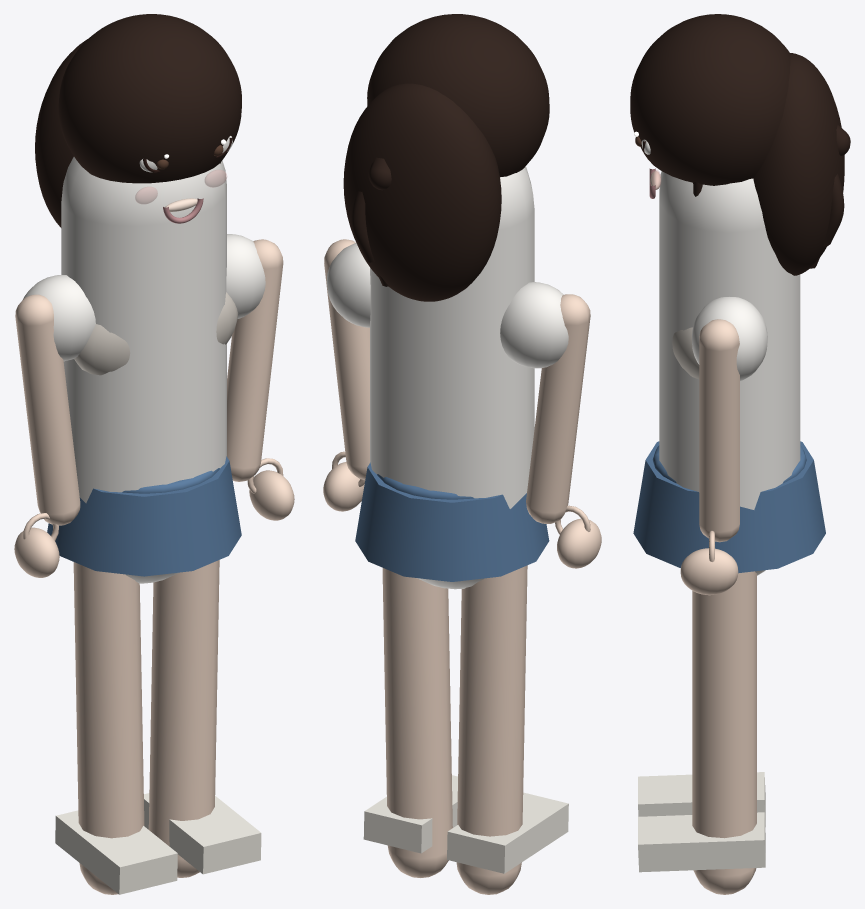
Rendered from junior_2005_runtime_mobile.glb.
The picture shows the model from 3 angles, left to right: view 1: azimuth 30°, elevation 25°; view 2: azimuth 150°, elevation 25°; view 3: azimuth 270°, elevation 25°; orthographic projection.
Parts seen in each view (by area): view 1: torso_main, leg_l (×2), hair_cap, arm_l (×2), shorts_hip, shoe_l (×2), shirt_sleeve_l (×2), hair_back, hand_l (×2), torso_chest, shorts_waistband; view 2: leg_l (×2), torso_main, hair_back, hair_cap, shorts_hip, arm_l (×2), shoe_l (×2), shirt_sleeve_l (×2), hand_l (×2), hair_pony_strand_1, shorts_waistband, hair_pony_base; view 3: torso_main, hair_cap, leg_l, hair_back, shorts_hip, arm_l, shoe_l (×2), shirt_sleeve_l, hand_l, torso_chest, hair_pony_strand_1, shorts_waistband.
Boxes of the visible parts, bbox=[...] form: torso_main: bbox=[61, 157, 226, 583]; leg_l (×2): bbox=[73, 560, 219, 894]; hair_cap: bbox=[58, 14, 241, 183]; arm_l (×2): bbox=[15, 239, 283, 525]; shorts_hip: bbox=[47, 456, 241, 576]; shoe_l (×2): bbox=[55, 793, 261, 894]; shirt_sleeve_l (×2): bbox=[23, 234, 265, 361]; hair_back: bbox=[35, 39, 87, 227]; hand_l (×2): bbox=[14, 470, 294, 577]; torso_chest: bbox=[74, 292, 238, 375]; shorts_waistband: bbox=[122, 468, 219, 493]; leg_l (×2): bbox=[382, 565, 527, 894]; torso_main: bbox=[370, 166, 534, 589]; hair_back: bbox=[343, 83, 501, 301]; hair_cap: bbox=[367, 14, 549, 177]; shorts_hip: bbox=[355, 462, 549, 581]; arm_l (×2): bbox=[324, 239, 590, 523]; shoe_l (×2): bbox=[363, 775, 568, 873]; shirt_sleeve_l (×2): bbox=[326, 243, 568, 368]; hand_l (×2): bbox=[323, 462, 601, 568]; hair_pony_strand_1: bbox=[351, 191, 374, 262]; shorts_waistband: bbox=[377, 474, 473, 499]; hair_pony_base: bbox=[368, 157, 391, 190]; torso_main: bbox=[659, 171, 800, 575]; hair_cap: bbox=[630, 14, 790, 185]; leg_l: bbox=[692, 571, 756, 894]; hair_back: bbox=[753, 53, 844, 275]; shorts_hip: bbox=[633, 441, 825, 573]; arm_l: bbox=[699, 319, 739, 542]; shoe_l (×2): bbox=[638, 772, 765, 872]; shirt_sleeve_l: bbox=[692, 297, 767, 380]; hand_l: bbox=[680, 548, 738, 595]; torso_chest: bbox=[672, 327, 699, 379]; hair_pony_strand_1: bbox=[823, 173, 844, 246]; shorts_waistband: bbox=[652, 445, 806, 483].
Bounding box in the file's own units: 0.5988 × 1.84 × 0.4303.
